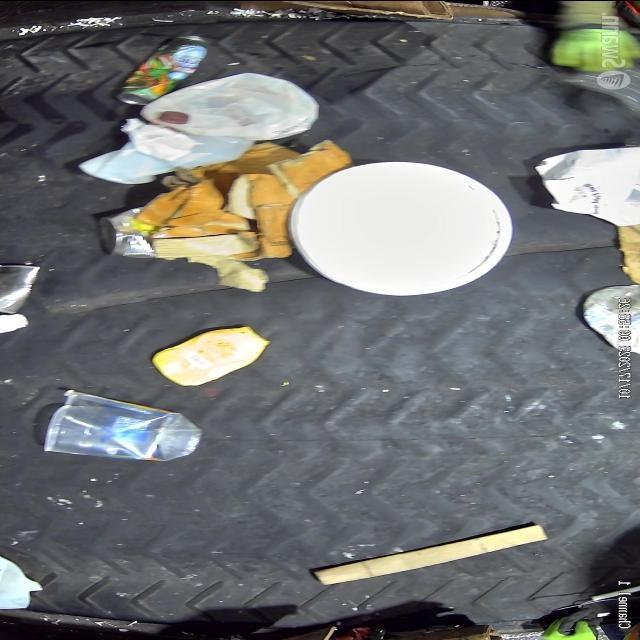milk_jug: (140, 72, 320, 138)
non_white_jug: (153, 325, 271, 385)
